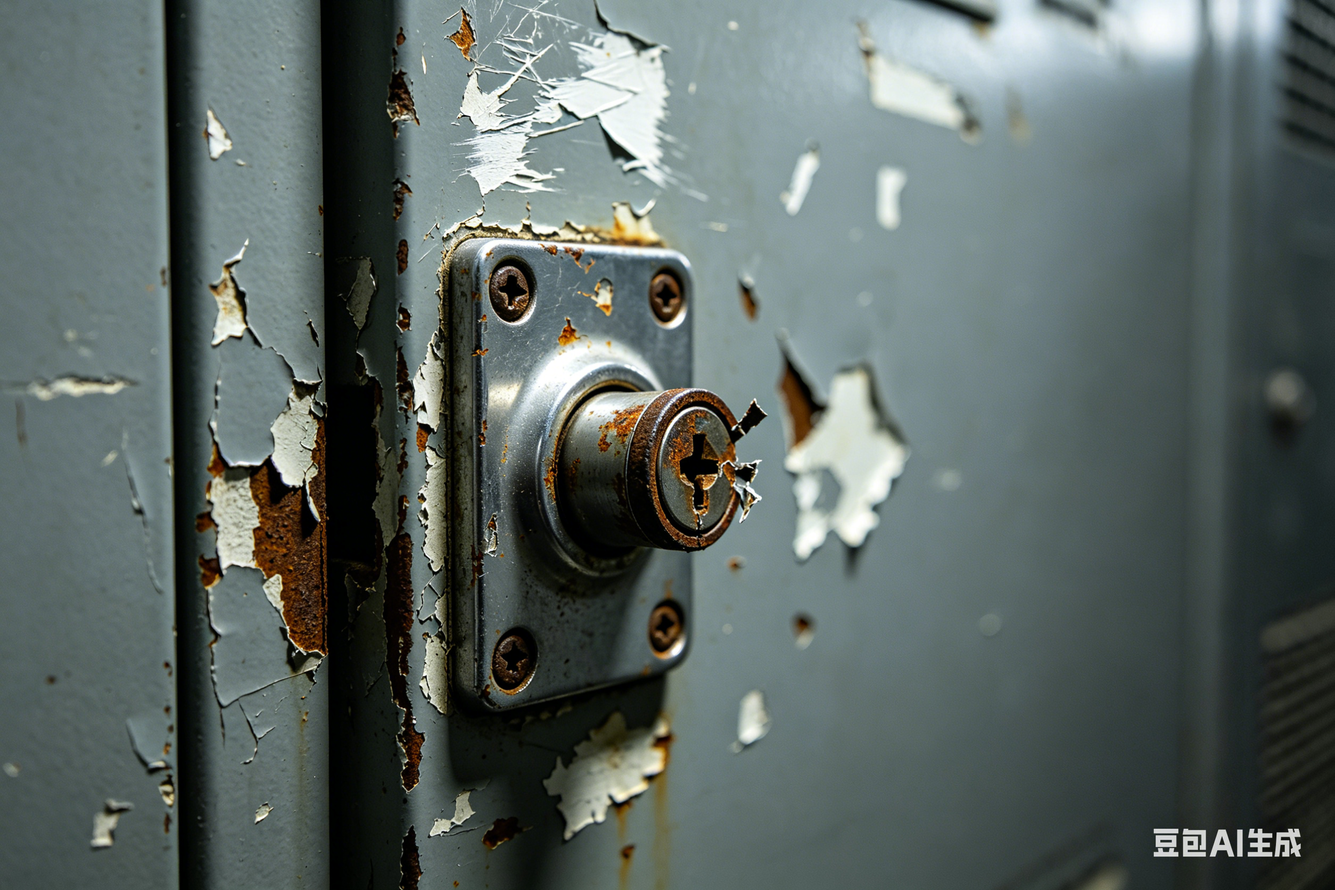BadLock: (625, 394, 778, 540)
